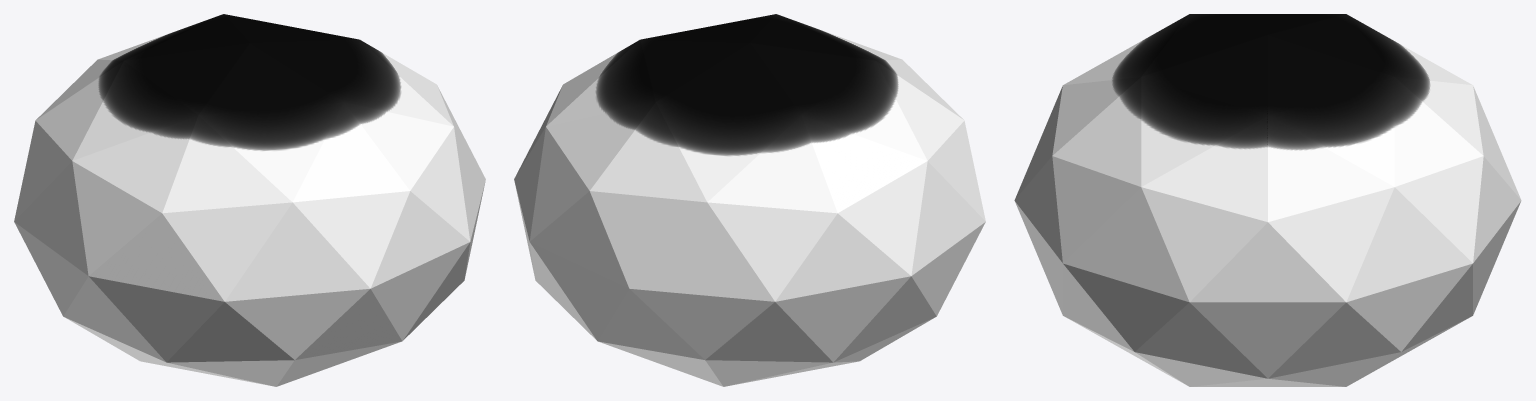
The model's file is Basic-Eye.glb.
3 renders of one model, left to right at view 1: azimuth 30°, elevation 25°; view 2: azimuth 150°, elevation 25°; view 3: azimuth 270°, elevation 25°, orthographic. The views are drawn at different scales.
Parts seen in each view (by area): view 1: Icosphere; view 2: Icosphere; view 3: Icosphere.
Boxes of the visible parts, left/top/right/bottom form: Icosphere: left=14, top=14, right=485, bottom=386; Icosphere: left=514, top=14, right=985, bottom=386; Icosphere: left=1014, top=14, right=1521, bottom=386.
Bounding box in the file's own units: 1.9 × 1.44 × 2.
1 material, 1 textured.
